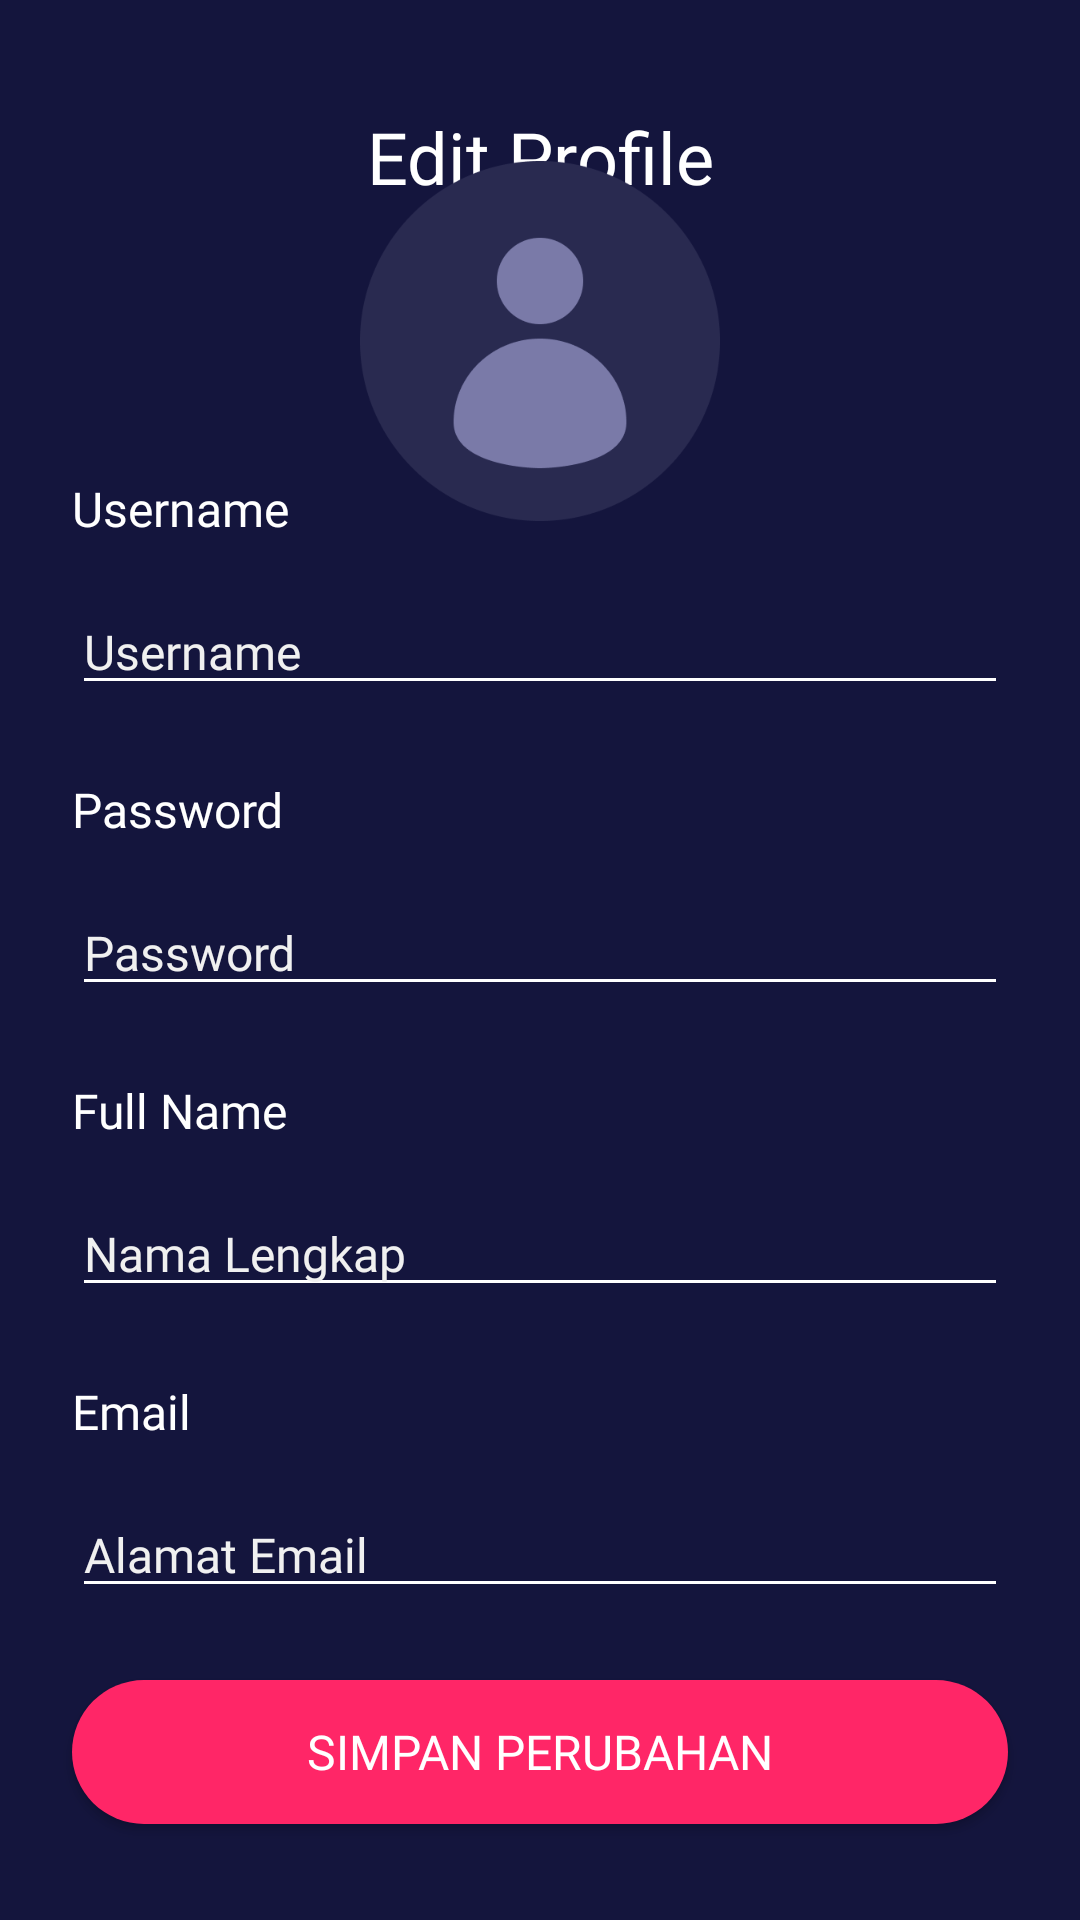

Point at icon controls on the screen. Image size 1080 x 1920, points as (x,y).
user pic: (540,353)
